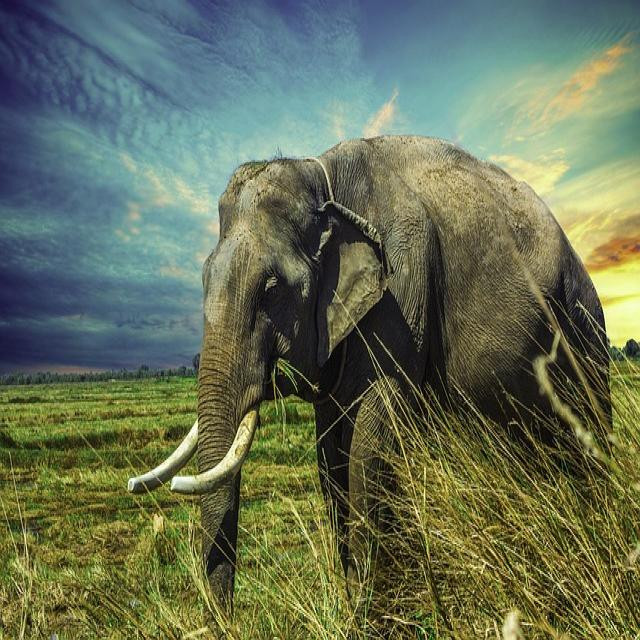Herbivorous: (127, 135, 615, 640)
